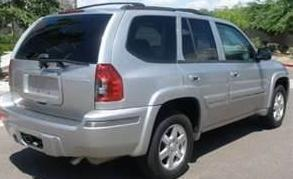back_view: (2, 58, 125, 158)
backlight: (93, 64, 125, 104)
side_glass: (124, 13, 260, 66)
